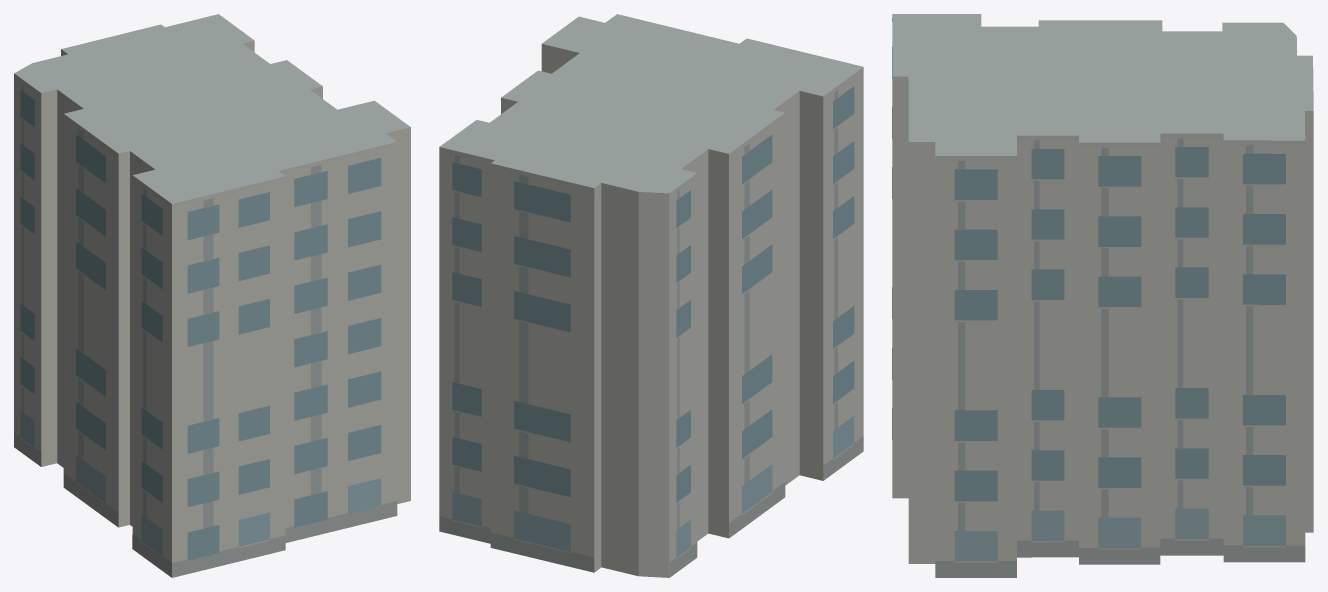
Rendered from survey-upis-32768106.glb.
The picture shows the model from 3 angles, left to right: view 1: azimuth 30°, elevation 25°; view 2: azimuth 150°, elevation 25°; view 3: azimuth 270°, elevation 25°; orthographic projection. The views are drawn at different scales.
Parts seen in each view (by area): view 1: survey-upis-32768106.tmp; view 2: survey-upis-32768106.tmp; view 3: survey-upis-32768106.tmp.
Part boxes in pixels (left/top/right/bottom): survey-upis-32768106.tmp: left=14, top=14, right=410, bottom=577; survey-upis-32768106.tmp: left=439, top=14, right=863, bottom=577; survey-upis-32768106.tmp: left=892, top=14, right=1313, bottom=577.
Bounding box in the file's own units: 15.55 × 21.5 × 19.48.
